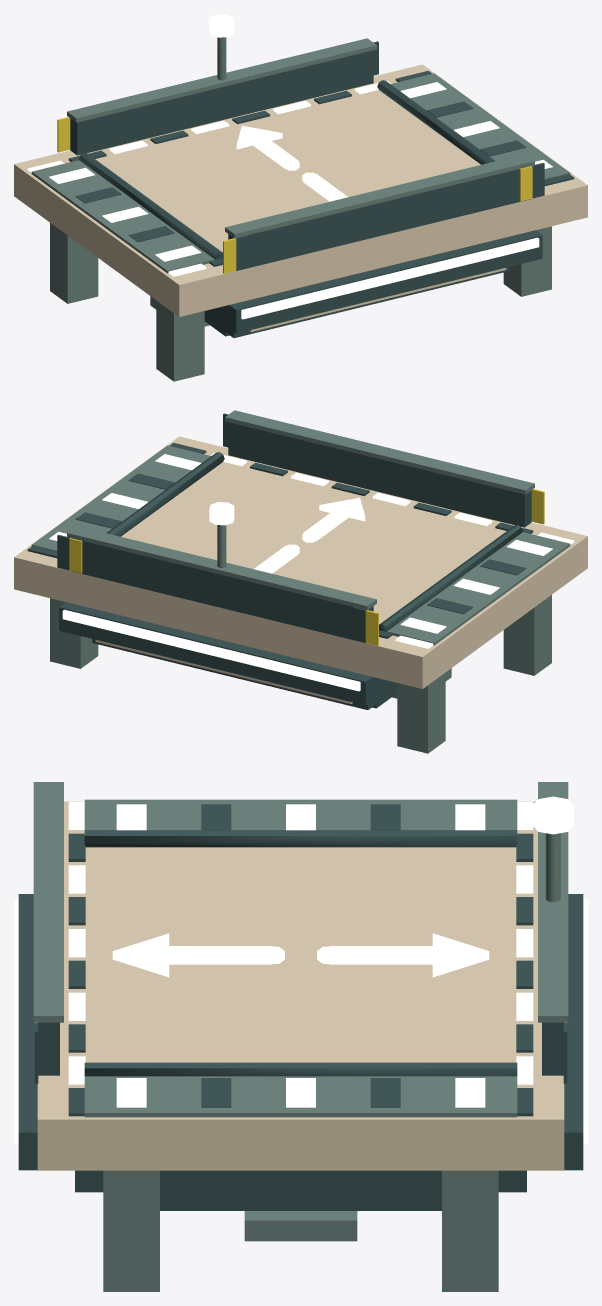
Rendered from Deck_Ferry_v4_4_lab2.glb.
The picture shows the model from 3 angles, top to bottom: view 1: azimuth 30°, elevation 25°; view 2: azimuth 150°, elevation 25°; view 3: azimuth 270°, elevation 25°; orthographic projection. The views are drawn at different scales.
Visible parts, largest first — view 1: Deck_Ferry_v4_4; view 2: Deck_Ferry_v4_4; view 3: Deck_Ferry_v4_4.
Boxes of the visible parts, x1,y1,x2,y2 form: Deck_Ferry_v4_4: (14,14,587,381); Deck_Ferry_v4_4: (14,410,587,753); Deck_Ferry_v4_4: (14,782,587,1291).
Size of the model in its own units: 4 by 1.99 by 3.05.
